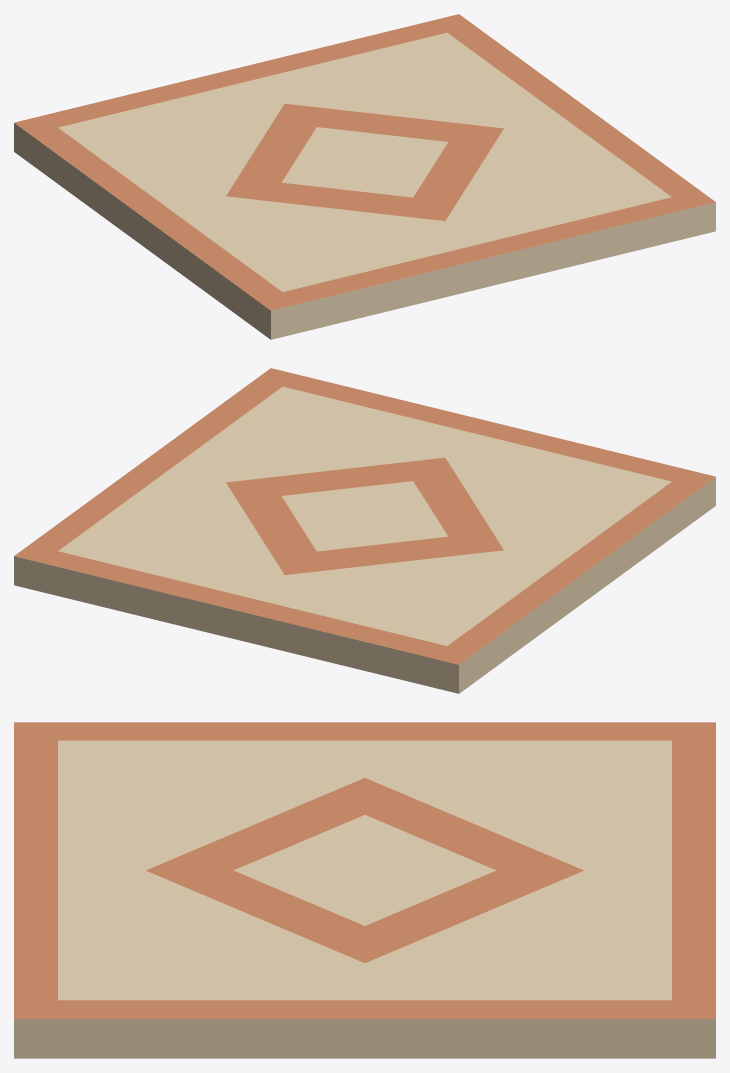
Rendered from CM_Ground_PaverTile.fbx.
The picture shows the model from 3 angles, top to bottom: view 1: azimuth 30°, elevation 25°; view 2: azimuth 150°, elevation 25°; view 3: azimuth 270°, elevation 25°; orthographic projection. The views are drawn at different scales.
Parts seen in each view (by area): view 1: Paving; view 2: Paving; view 3: Paving.
Part boxes in pixels (box(x1,y1,x2,y2)): Paving: box(14, 14, 715, 339); Paving: box(14, 368, 715, 693); Paving: box(14, 722, 715, 1058).
Bounding box in the file's own units: 16 × 16 × 1.01.
1 material, 1 textured.
